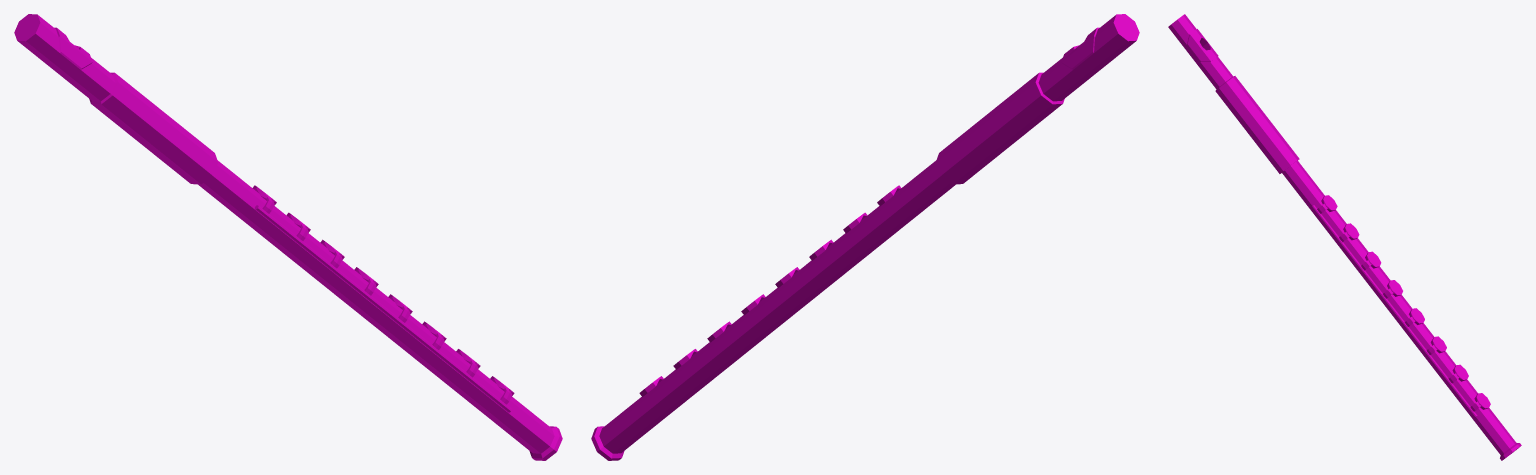
The model's file is Flute_01.fbx.
3 renders of one model, left to right at view 1: azimuth 30°, elevation 25°; view 2: azimuth 150°, elevation 25°; view 3: azimuth 330°, elevation 25°, orthographic. The views are drawn at different scales.
Visible parts, largest first — view 1: Flute_01; view 2: Flute_01; view 3: Flute_01.
Boxes of the visible parts, x1=… form: Flute_01: x1=14, y1=14, x2=562, y2=460; Flute_01: x1=591, y1=14, x2=1139, y2=460; Flute_01: x1=1168, y1=14, x2=1521, y2=460.
Bounding box in the file's own units: 8.19 × 8.19 × 0.5269.
